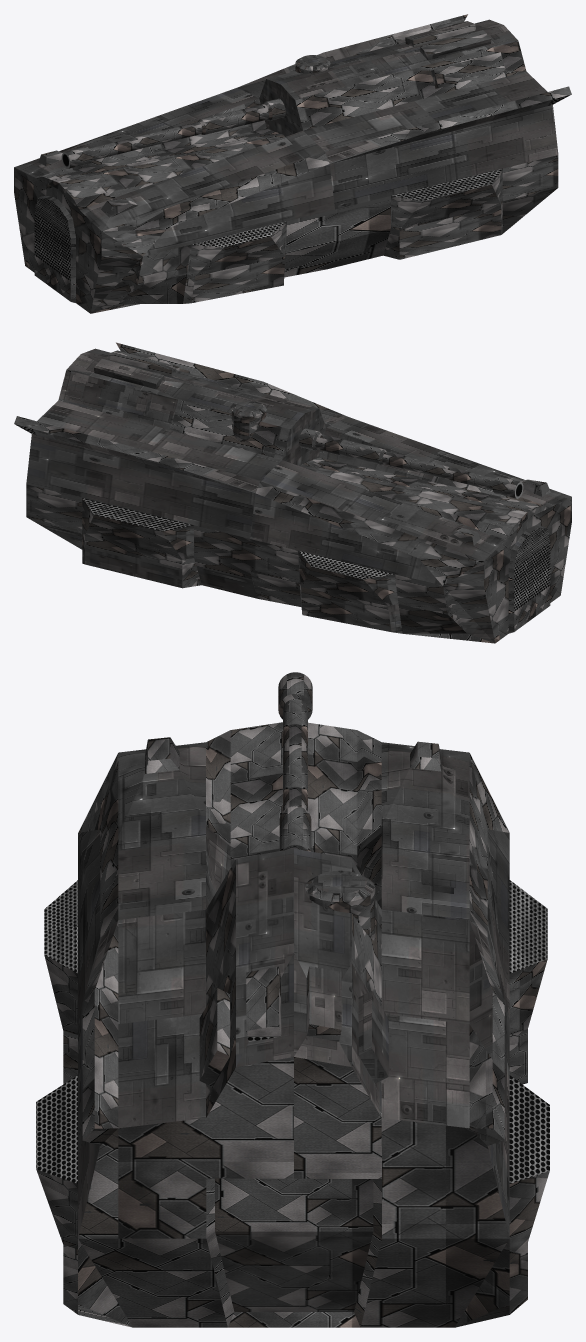
Rendered from tank.fbx.
3 renders of one model, top to bottom at view 1: azimuth 30°, elevation 25°; view 2: azimuth 150°, elevation 25°; view 3: azimuth 270°, elevation 25°, orthographic. The views are drawn at different scales.
Parts seen in each view (by area): view 1: Cube; view 2: Cube; view 3: Cube.
Part boxes in pixels (x1,y1,x2,y2): Cube: (14,14,571,313); Cube: (14,342,571,643); Cube: (36,672,549,1327).
Size of the model in its own units: 745 by 245 by 356.
